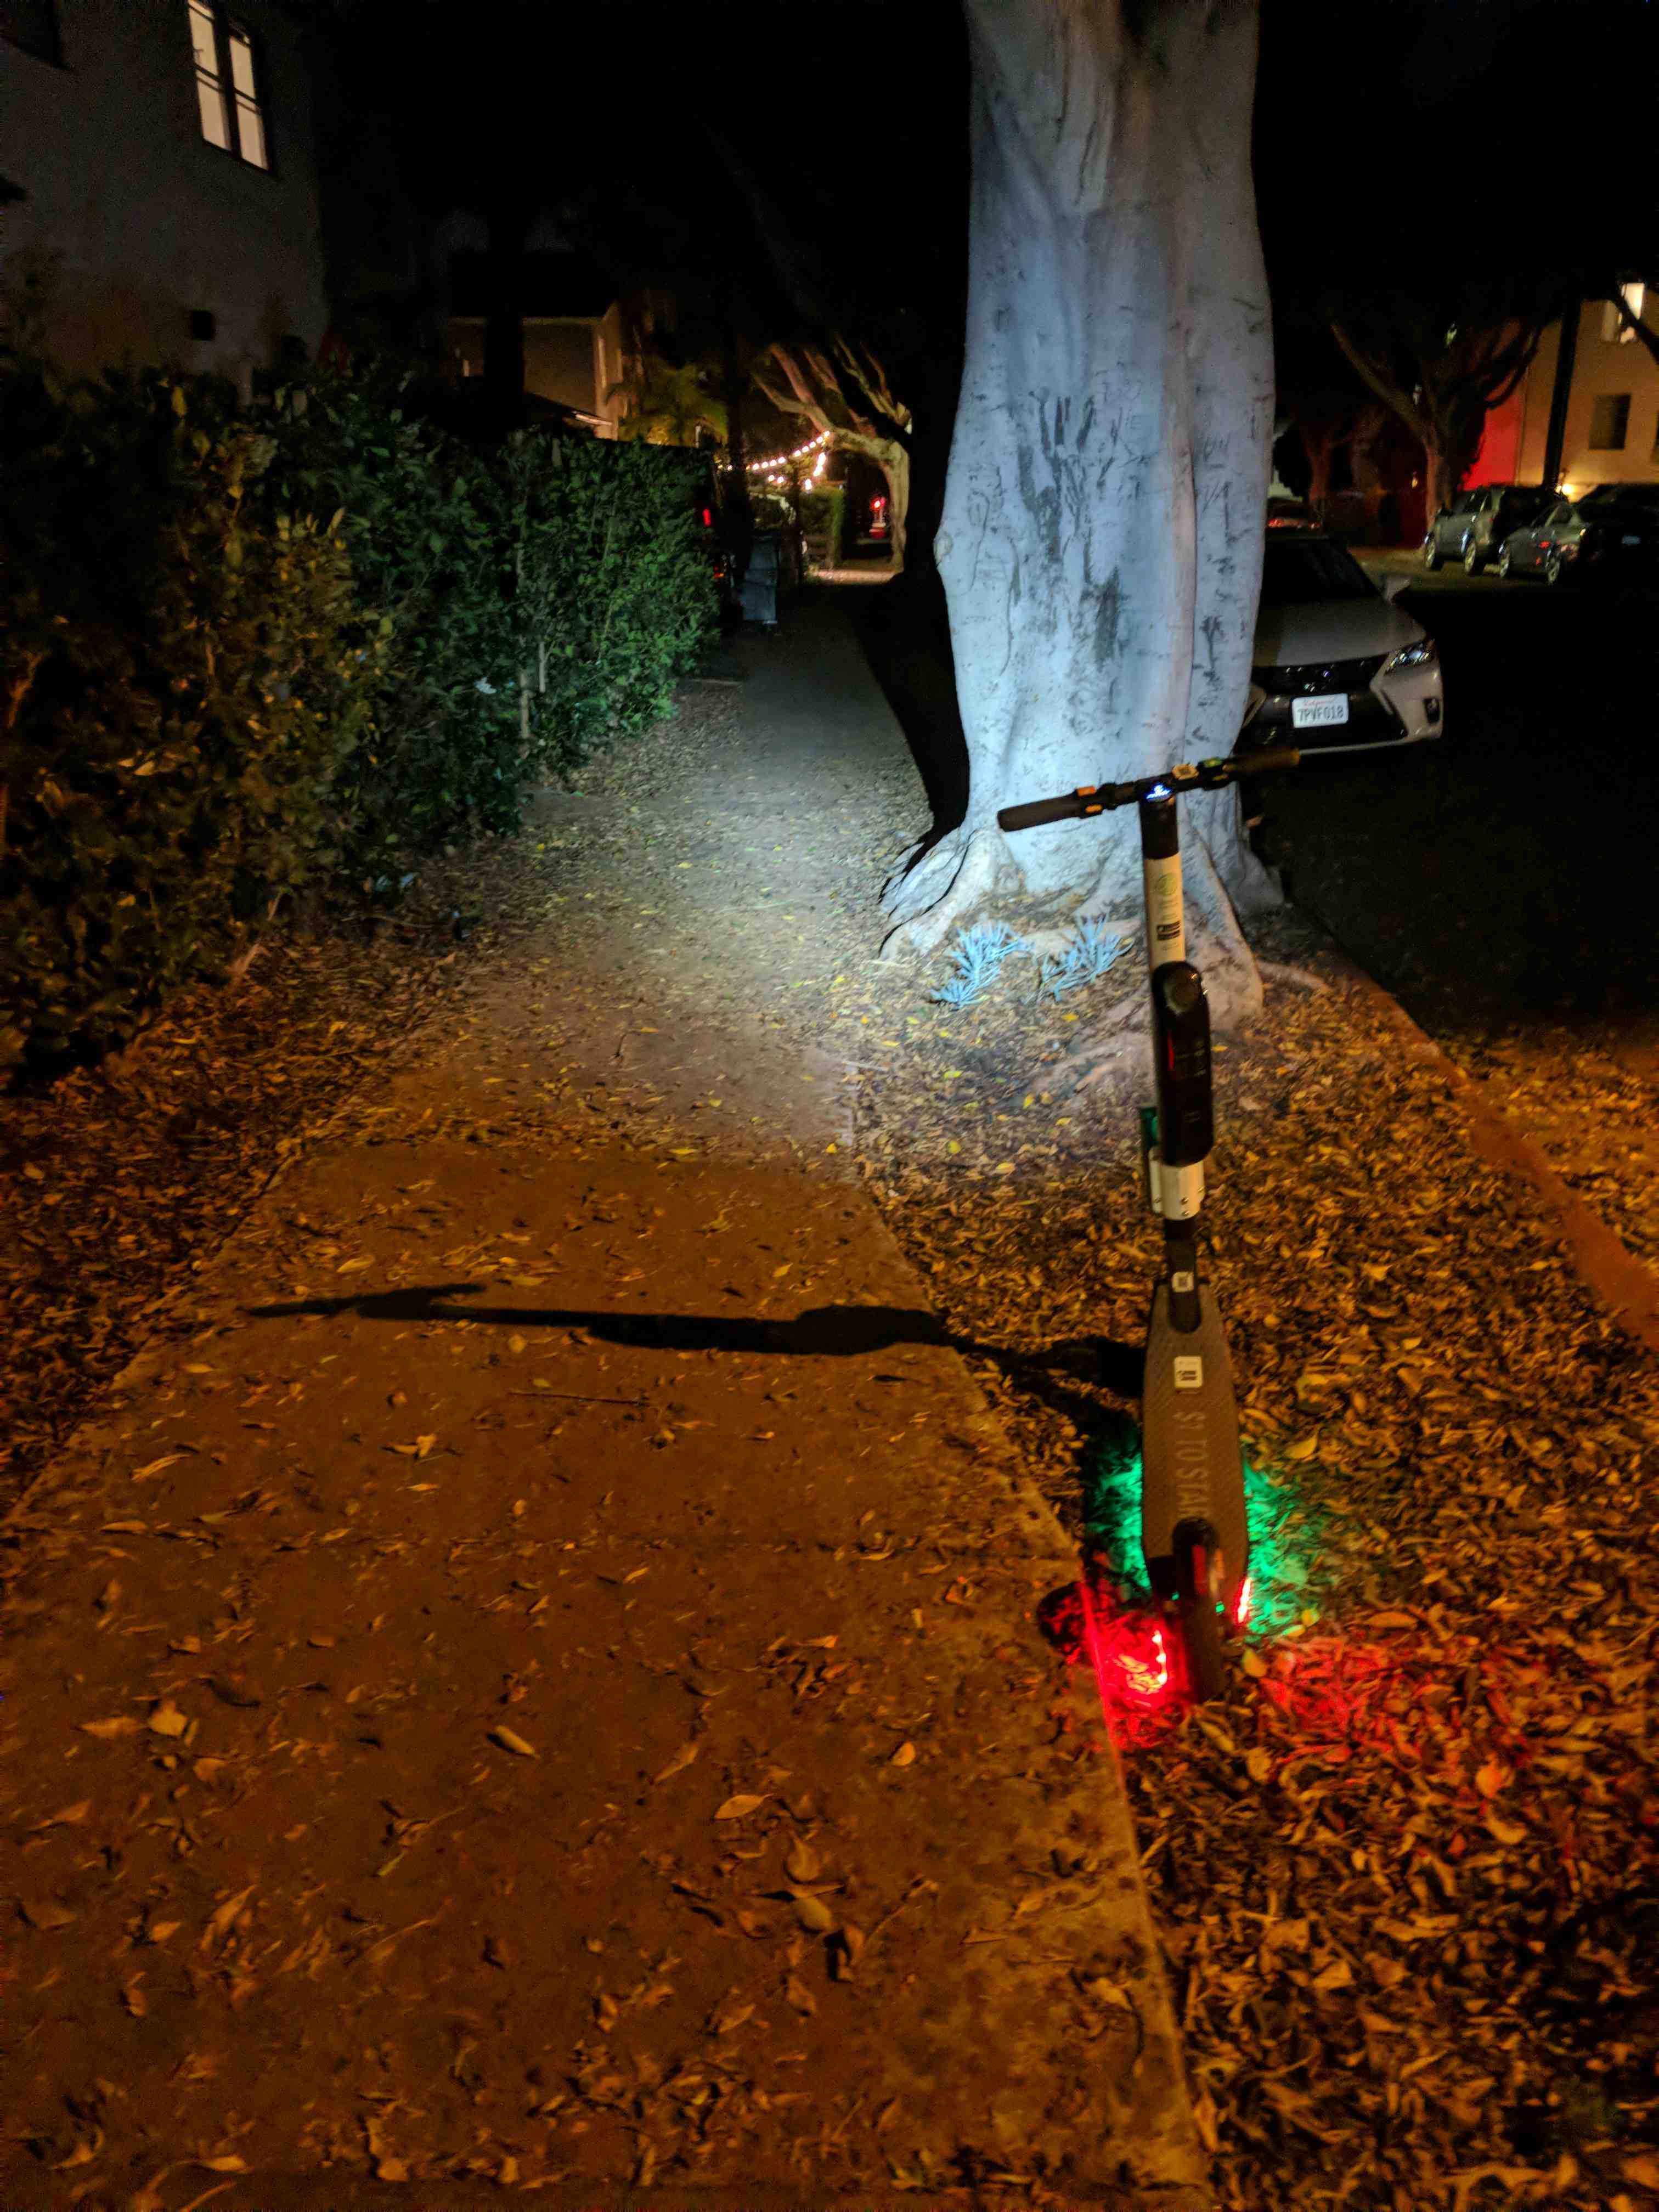scooter: (943, 691, 1384, 1665)
